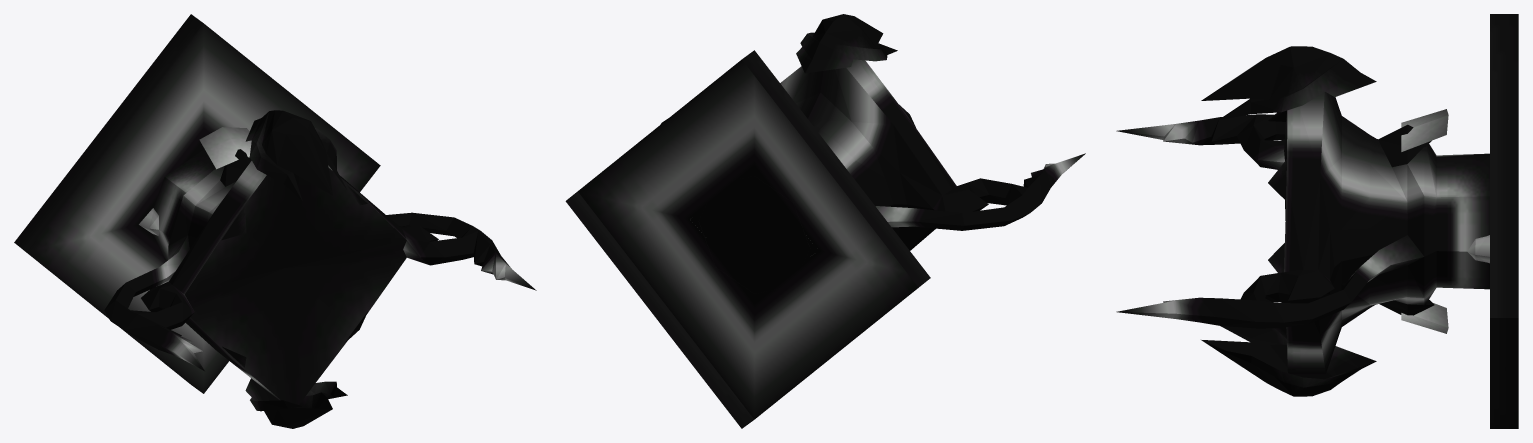
The model's file is yingxiongtai_teshutaizuo_4.obj.
3 renders of one model, left to right at view 1: azimuth 30°, elevation 25°; view 2: azimuth 150°, elevation 25°; view 3: azimuth 270°, elevation 25°, orthographic. The views are drawn at different scales.
Parts seen in each view (by area): view 1: yingxiongtai_teshutaizuo_4; view 2: yingxiongtai_teshutaizuo_4; view 3: yingxiongtai_teshutaizuo_4.
Boxes of the visible parts, bbox=[...] form: yingxiongtai_teshutaizuo_4: bbox=[14, 14, 536, 428]; yingxiongtai_teshutaizuo_4: bbox=[565, 14, 1085, 428]; yingxiongtai_teshutaizuo_4: bbox=[1116, 14, 1518, 428].
Bounding box in the file's own units: 92.73 × 88.74 × 78.12.
Materials: 2 (2 with a texture image).
